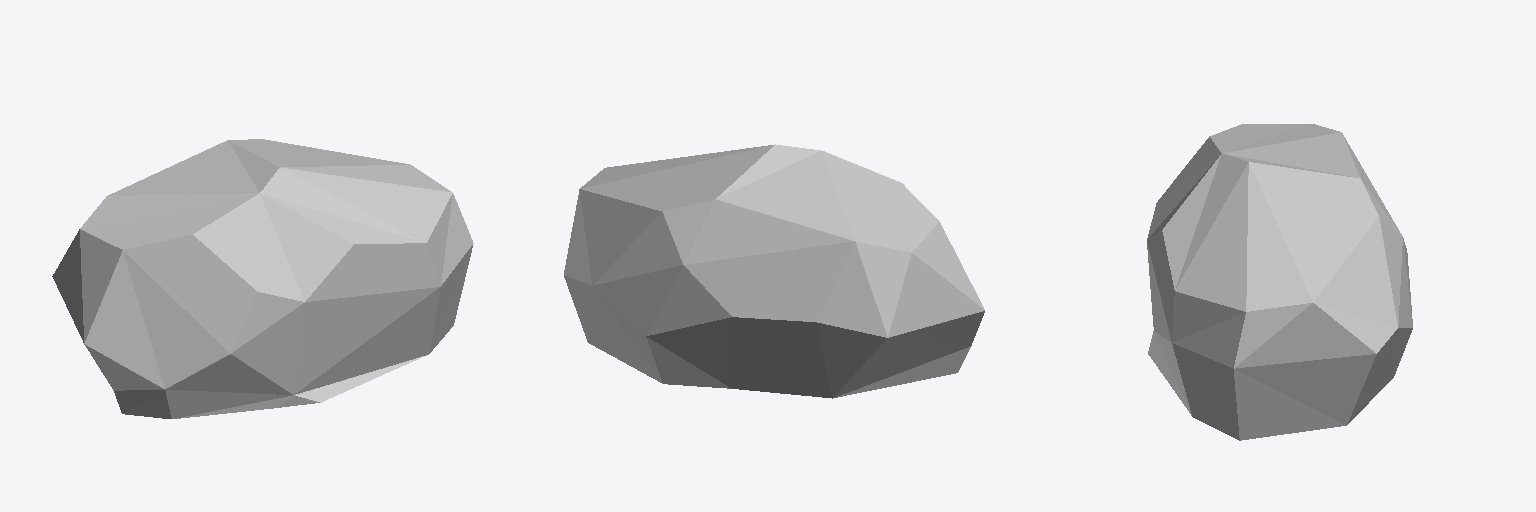
File: Bush_1.obj
3 renders of one model, left to right at view 1: azimuth 30°, elevation 25°; view 2: azimuth 150°, elevation 25°; view 3: azimuth 270°, elevation 25°, orthographic.
Parts seen in each view (by area): view 1: Bush_1_Cube; view 2: Bush_1_Cube; view 3: Bush_1_Cube.
Boxes of the visible parts, x1,y1,x2,y2 form: Bush_1_Cube: [52, 139, 473, 418]; Bush_1_Cube: [564, 144, 984, 398]; Bush_1_Cube: [1147, 124, 1412, 440].
Size of the model in its own units: 3.05 by 1.47 by 1.81.